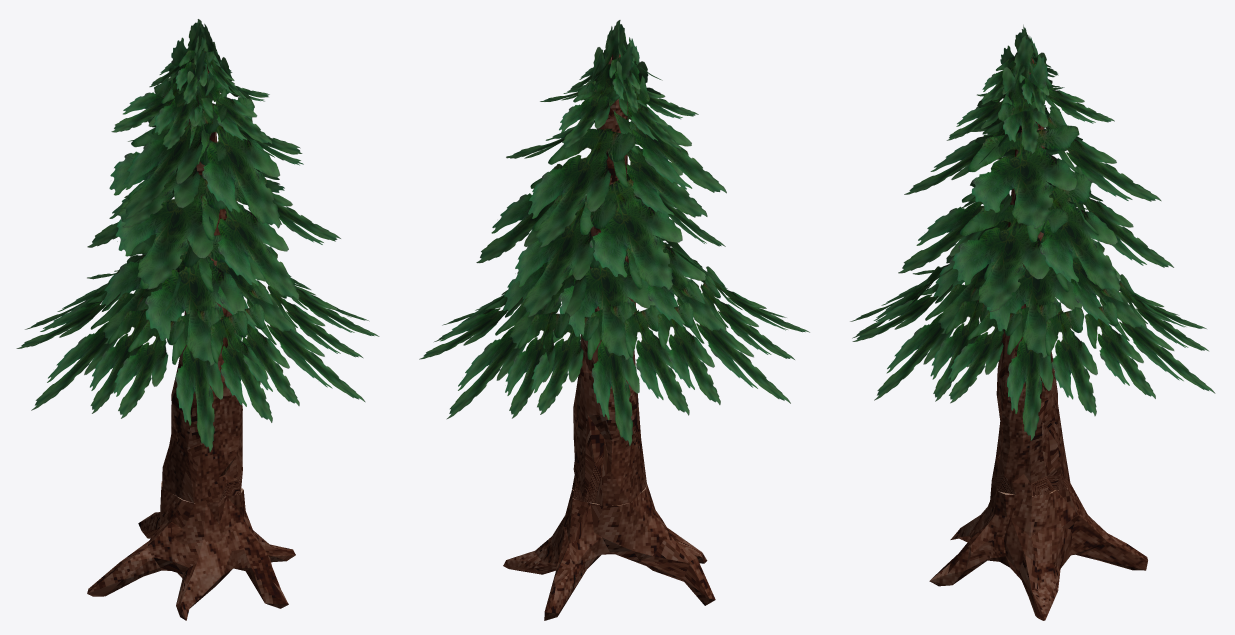
Rendered from pinetree_mesh.glb.
3 views of the same model, side by side, from view 1: azimuth 30°, elevation 25°; view 2: azimuth 150°, elevation 25°; view 3: azimuth 270°, elevation 25° (orthographic). The views are drawn at different scales.
Visible parts, largest first — view 1: bigleaf; view 2: bigleaf; view 3: bigleaf.
Part boxes in pixels (left/top/right/bottom): bigleaf: left=16, top=19, right=379, bottom=620; bigleaf: left=419, top=20, right=809, bottom=620; bigleaf: left=850, top=25, right=1215, bottom=620.
Size of the model in its own units: 3.08 by 4.81 by 3.
Materials: 3 (3 with a texture image).
